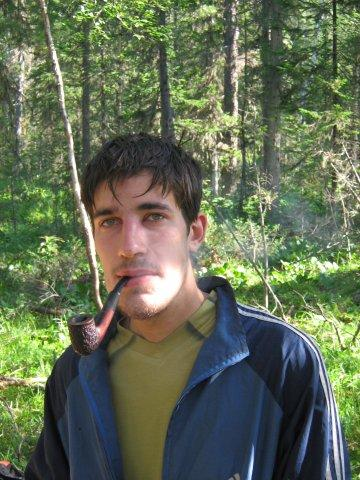trubka: (69, 277, 128, 355)
